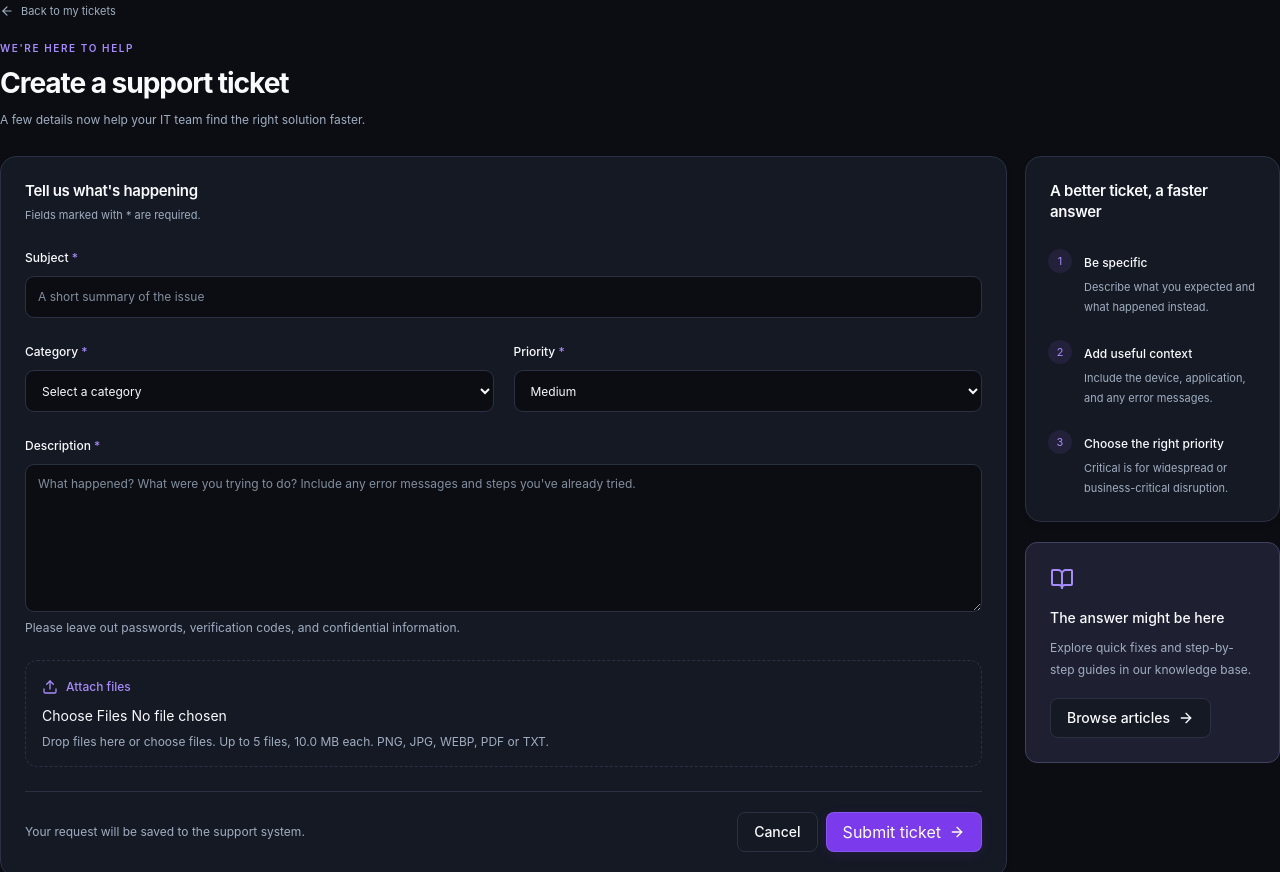
create-ticket form accessibility and validation › connects labels, displays validation errors, and retains entered text
The width and height of the screenshot is (1280, 872).
Type "VPN" into the field labelled "Subject *" at (504, 297), box [25,276,982,318]
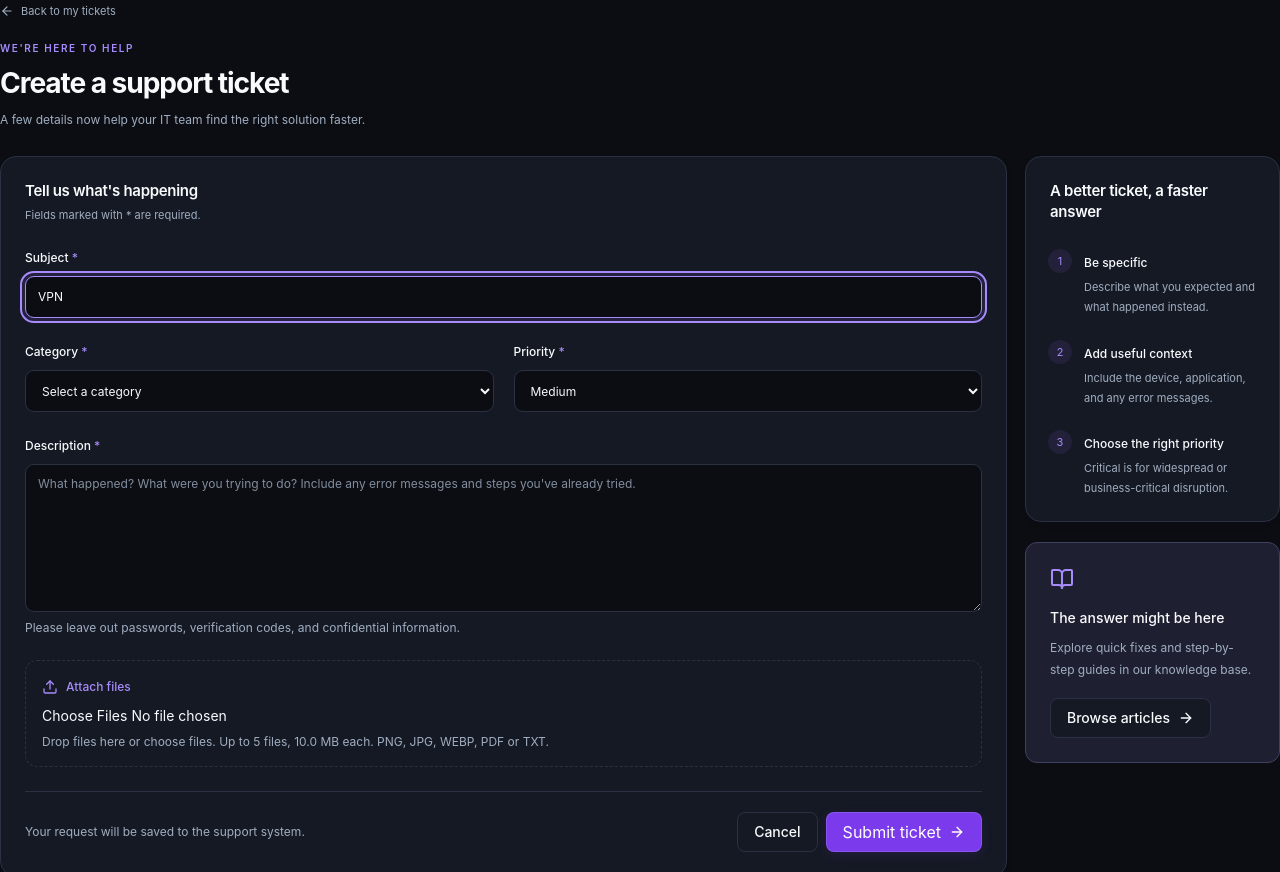
Click the button "Submit ticket" at (904, 832), box [826,812,982,852]
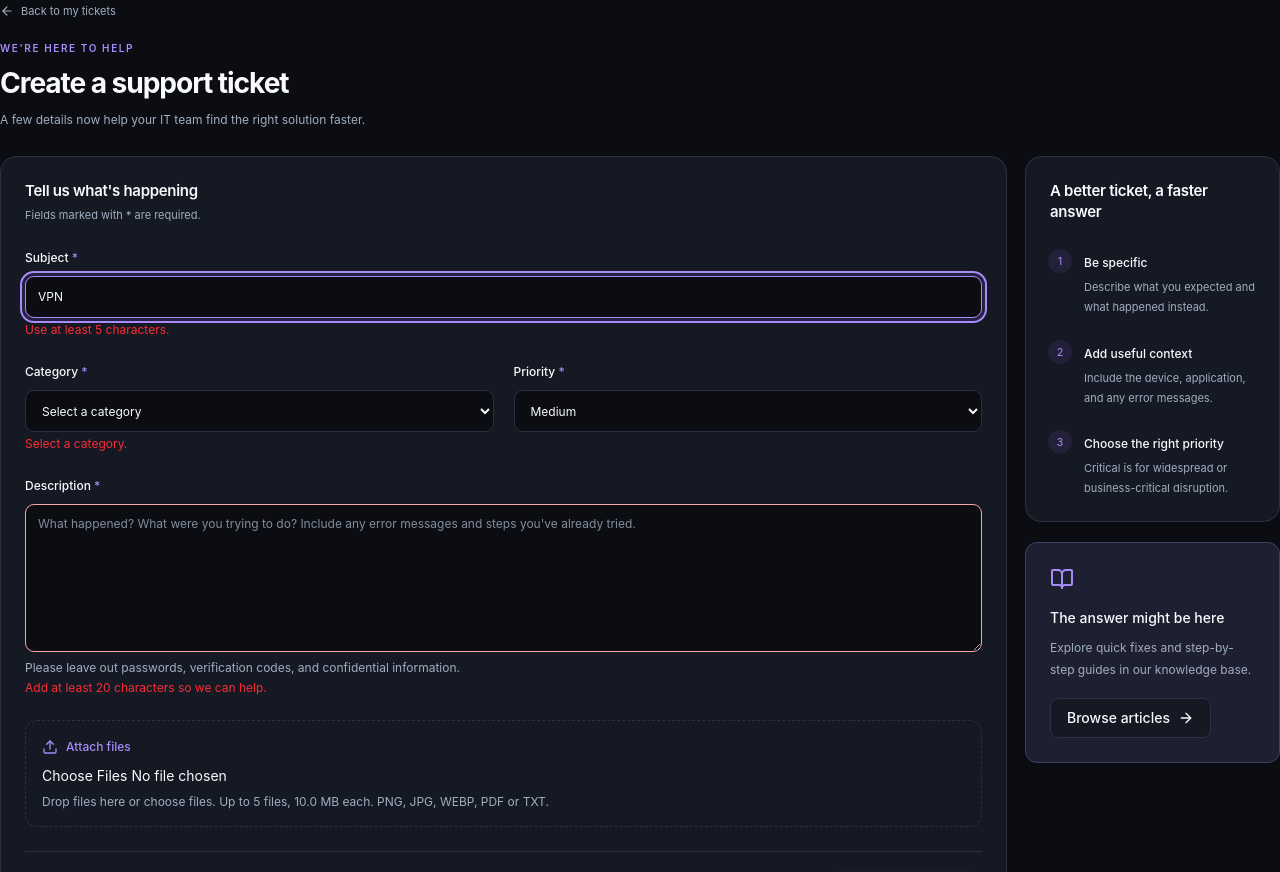
Expected: the text "Use at least 5 characters." is shown, [25,322,170,337]
Expected: the text "Add at least 20 characters so we can help." is shown, [25,680,267,696]
